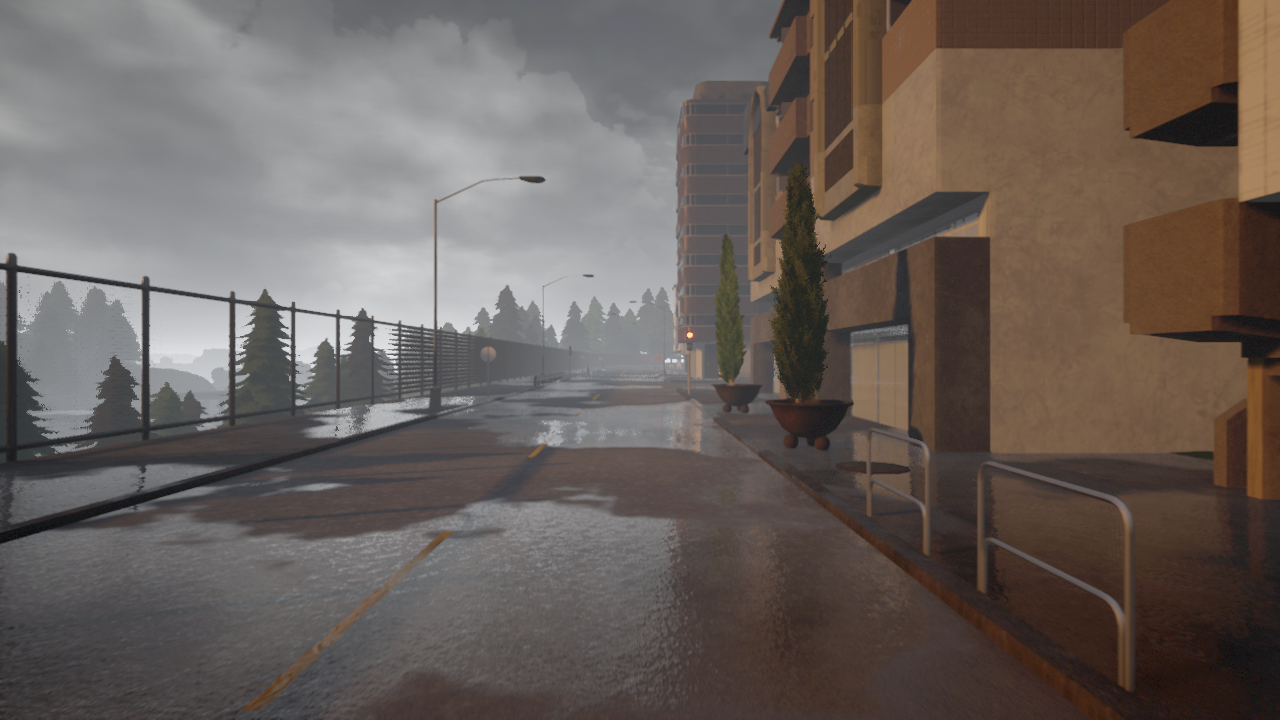red: (685, 330, 696, 353)
